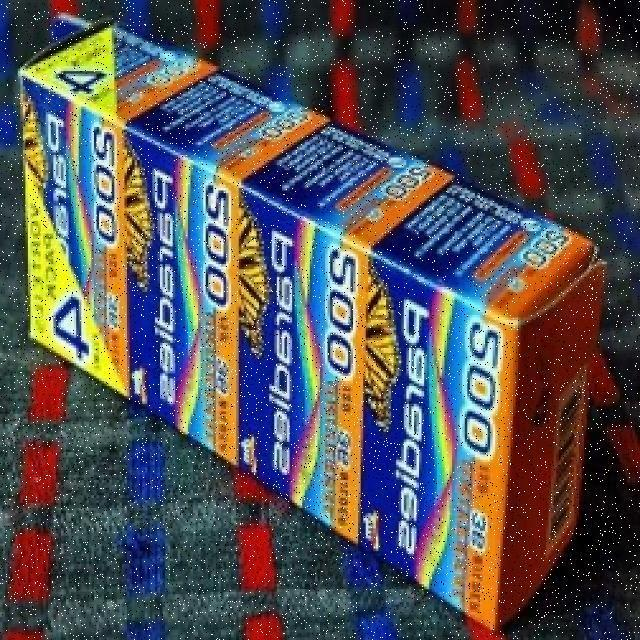box: (26, 18, 636, 634)
